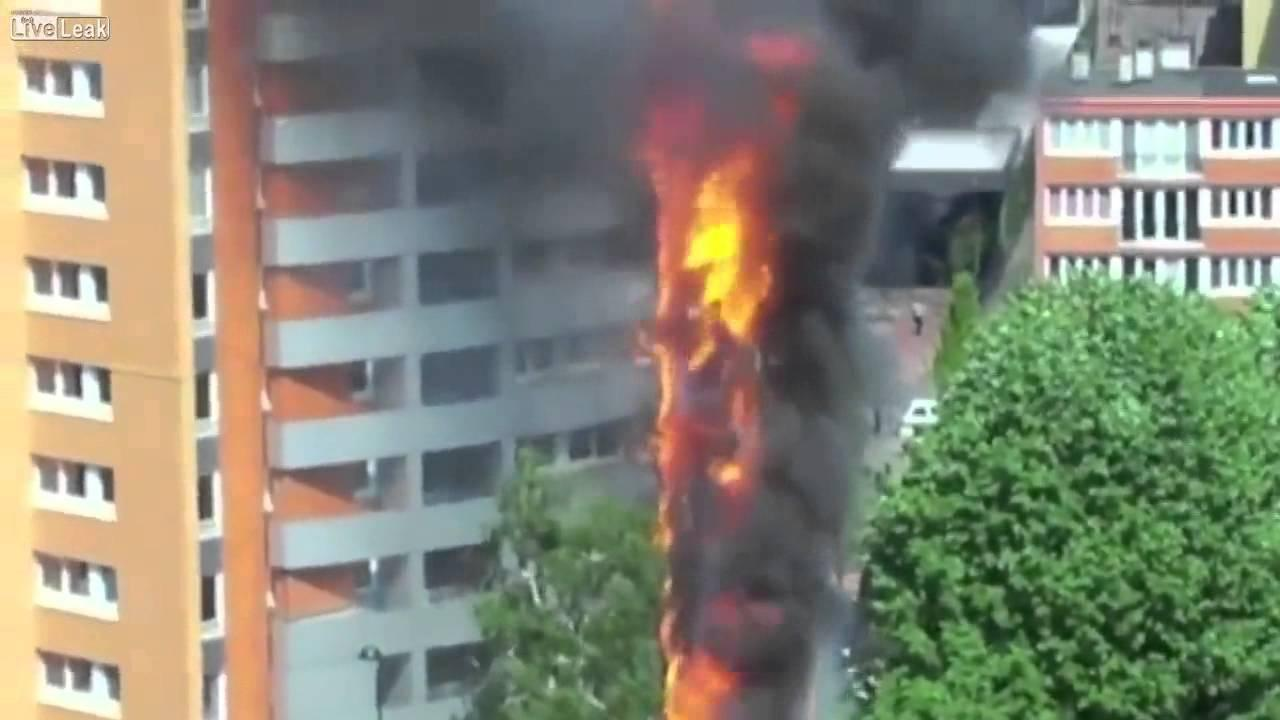Fire: (644, 100, 886, 720)
